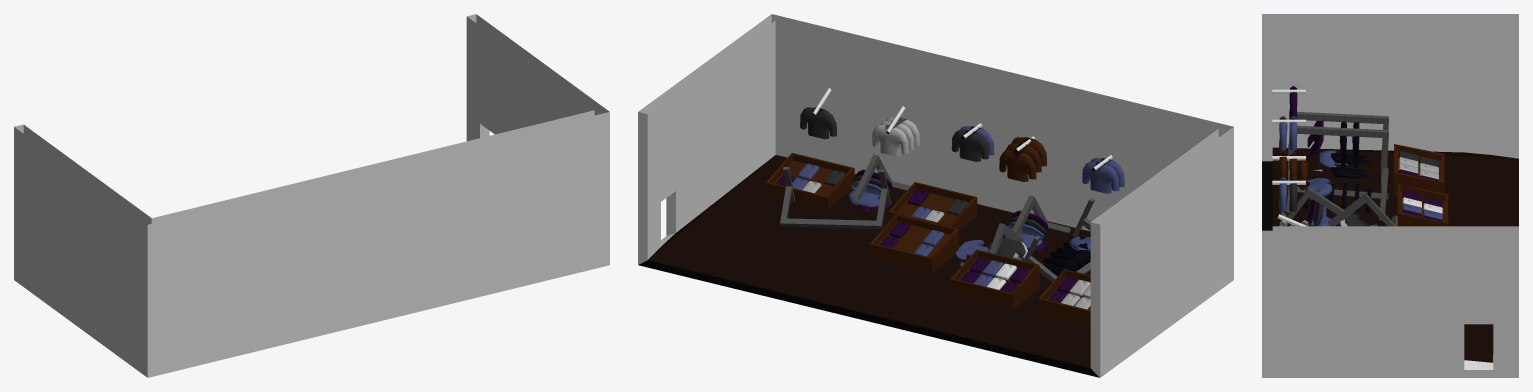
File: mart2_2.FBX
3 renders of one model, left to right at view 1: azimuth 30°, elevation 25°; view 2: azimuth 150°, elevation 25°; view 3: azimuth 270°, elevation 25°, orthographic. The views are drawn at different scales.
Parts seen in each view (by area): view 1: Box008; view 2: Box008; view 3: Box008.
Part boxes in pixels (x1,y1,x2,y2): Box008: (14,14,609,377); Box008: (638,14,1233,377); Box008: (1262,14,1518,377).
Size of the model in its own units: 1500 by 476 by 752.
